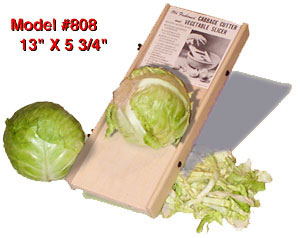cabbage: (108, 60, 197, 147), (4, 102, 84, 181)
